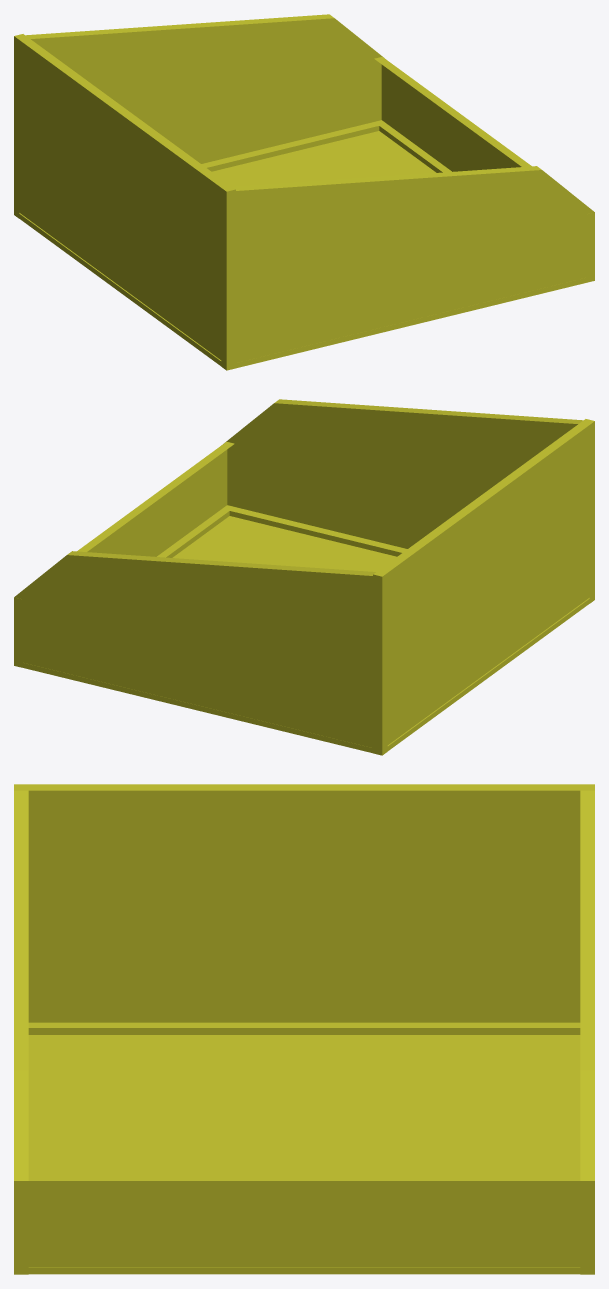
Rendered from bin2.glb.
3 views of the same model, one above another, from view 1: azimuth 30°, elevation 25°; view 2: azimuth 150°, elevation 25°; view 3: azimuth 270°, elevation 25° (orthographic). The views are drawn at different scales.
Visible parts, largest first — view 1: bin; view 2: bin; view 3: bin.
Part boxes in pixels (<box>): bin: <box>14,14,594,370</box>; bin: <box>14,399,594,755</box>; bin: <box>14,784,594,1274</box>.
Bounding box in the file's own units: 0.56 × 0.26 × 0.56.
